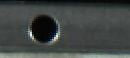holes: (27, 13, 62, 45)
